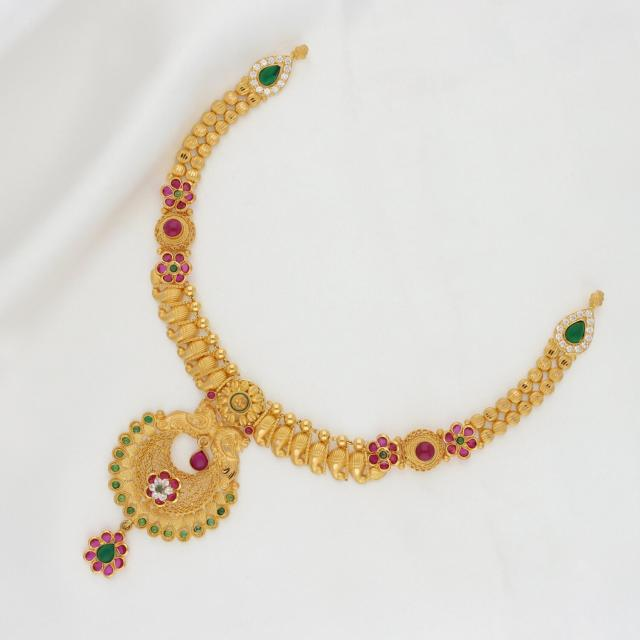missing gem: (230, 393, 249, 411)
